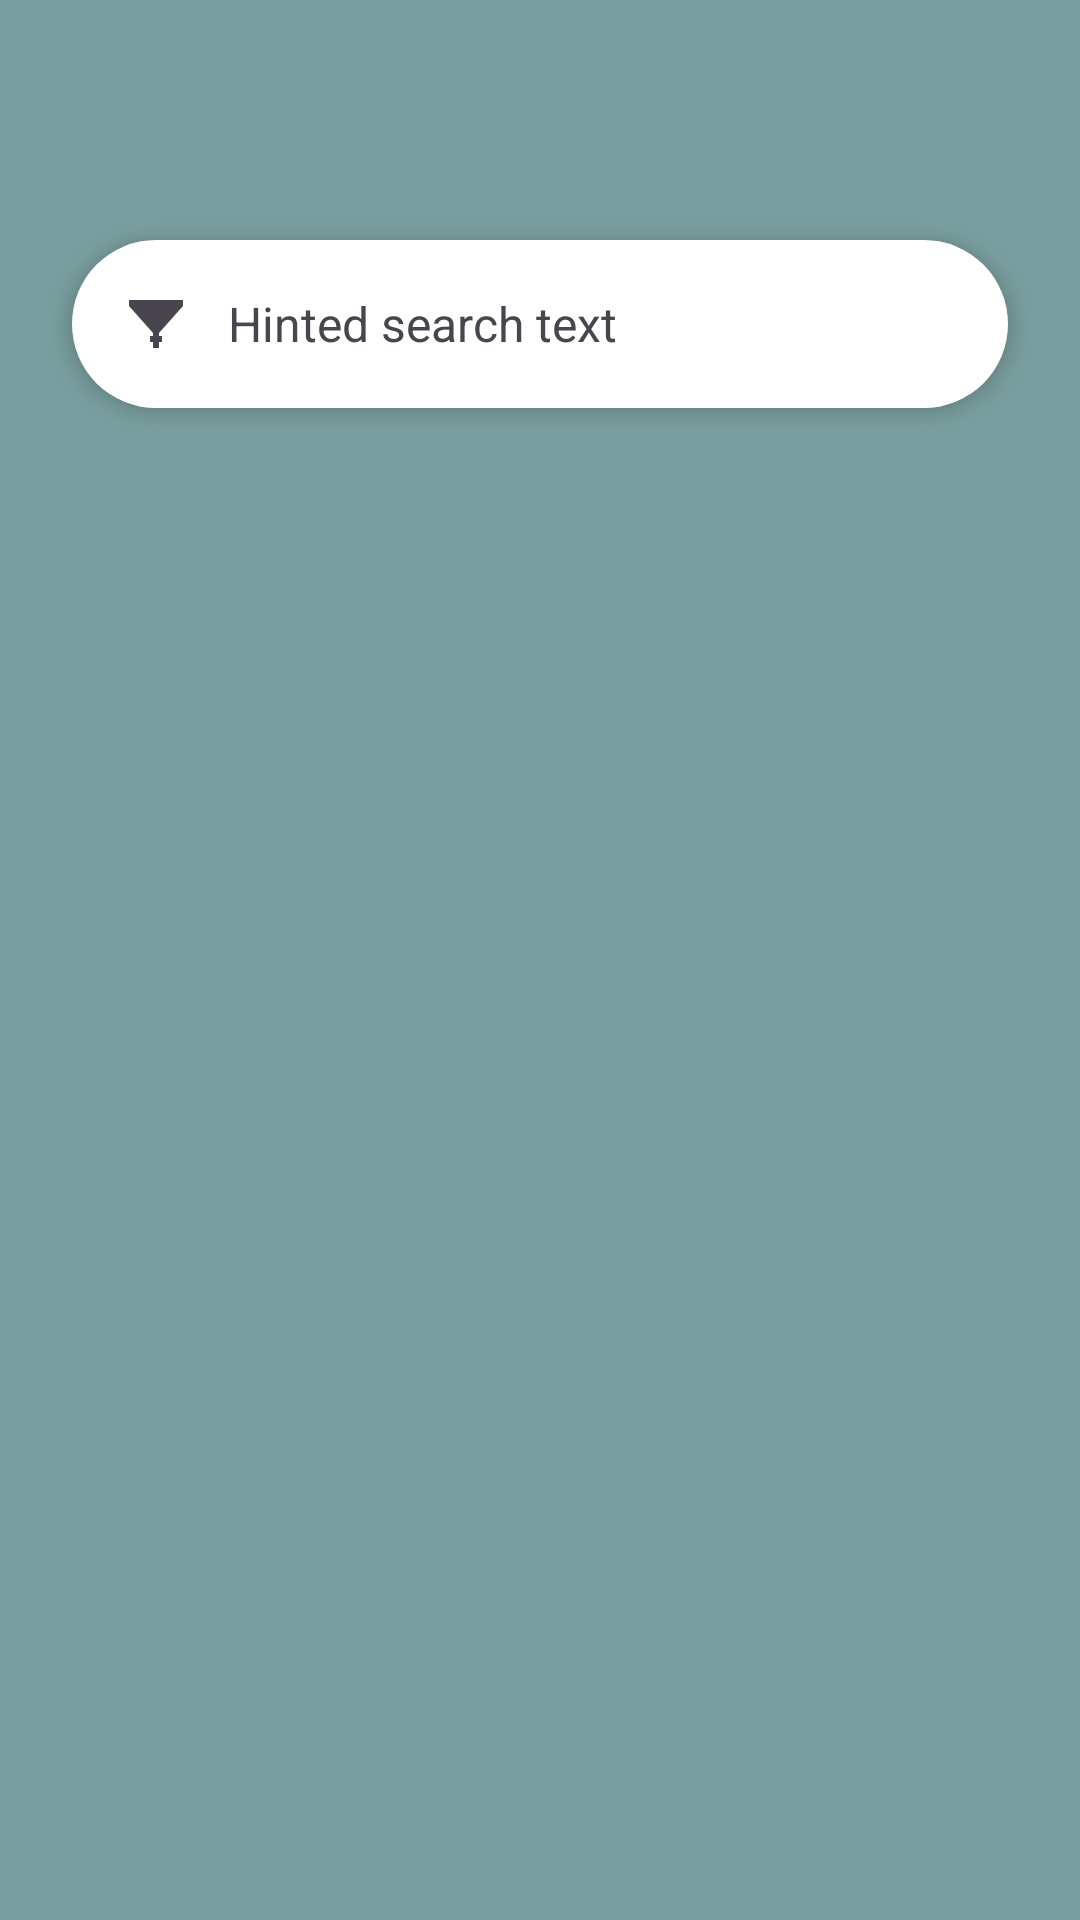

Screen size 1080*1920. Icon name, then its center in pixels as (x,y):
filter: (156,324)
